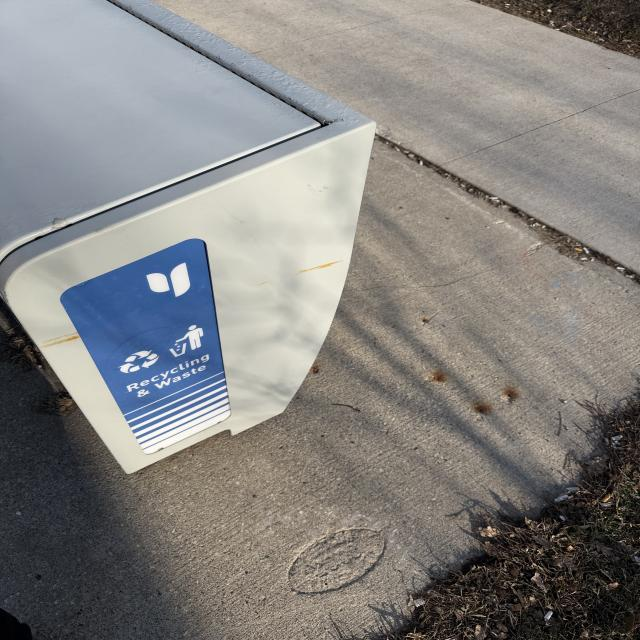Dustbin: (0, 0, 379, 477)
